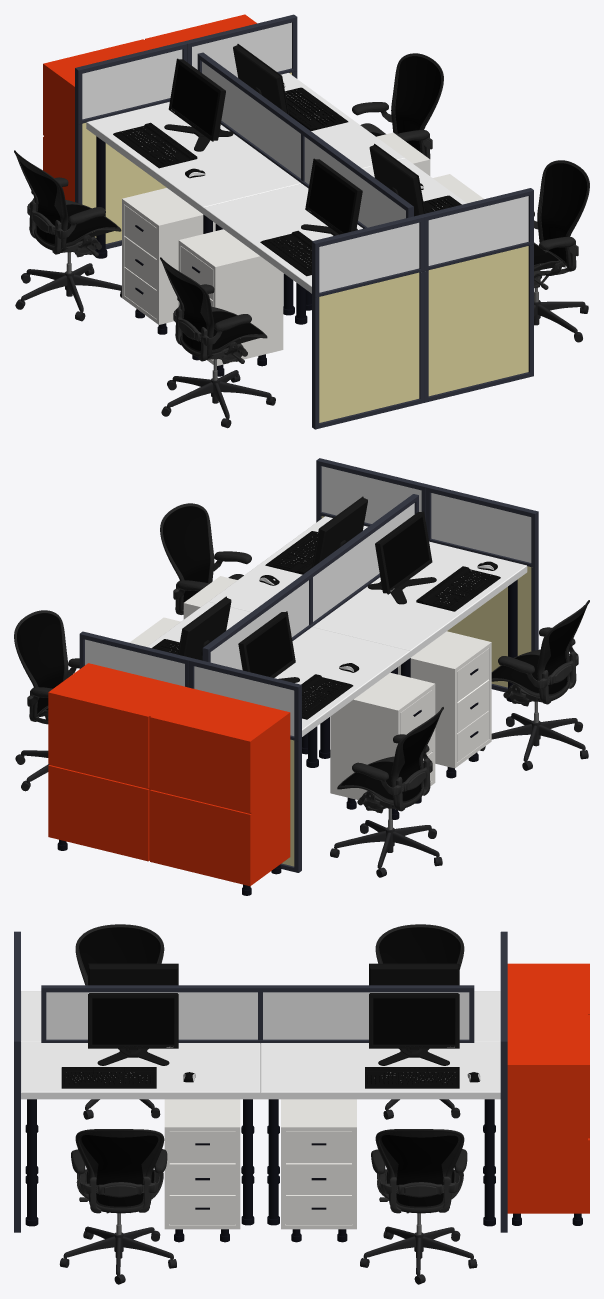
3 renders of one model, top to bottom at view 1: azimuth 30°, elevation 25°; view 2: azimuth 150°, elevation 25°; view 3: azimuth 270°, elevation 25°, orthographic. The views are drawn at different scales.
Visible parts, largest first — view 1: Box343, Box339, Rectangle1294, Rectangle1302, Rectangle1298, Box346, Box345, Rectangle1293, Box337, Box342, Box352, Box354 (+41 smaller); view 2: Box346, Rectangle1293, Rectangle1302, Rectangle1298, Box345, Rectangle1294, Box337, Arch35_024_13, Box339, Box342, HPellBk15, HPellBk14 (+37 smaller); view 3: Box346, Box345, Rectangle1308, Rectangle1303, Rectangle1307, Rectangle1312, Arch35_024_12, Arch35_024_11, Box344, HPellBk15, HPellBk14, HPellBk12 (+26 smaller).
Boxes of the visible parts, x1,y1,x2,y2 form: Box343: [428, 246, 528, 396]; Box339: [319, 272, 419, 422]; Rectangle1294: [86, 102, 300, 213]; Rectangle1302: [178, 229, 283, 365]; Rectangle1298: [122, 188, 215, 324]; Box346: [43, 14, 256, 201]; Box345: [202, 61, 405, 227]; Rectangle1293: [203, 183, 362, 293]; Box337: [319, 222, 419, 292]; Box342: [428, 196, 528, 265]; Box352: [82, 49, 182, 119]; Box354: [82, 123, 166, 243]; Box346: [48, 663, 290, 886]; Rectangle1293: [312, 541, 527, 657]; Rectangle1302: [398, 631, 491, 768]; Rectangle1298: [330, 672, 435, 809]; Box345: [210, 503, 414, 670]; Rectangle1294: [274, 627, 410, 736]; Box337: [431, 493, 531, 562]; Arch35_024_13: [367, 511, 436, 604]; Box339: [447, 566, 531, 687]; Box342: [321, 466, 421, 523]; HPellBk15: [163, 506, 210, 607]; HPellBk14: [17, 613, 64, 714]; Box346: [507, 963, 589, 1213]; Box345: [46, 992, 469, 1039]; Rectangle1308: [260, 1041, 500, 1099]; Rectangle1303: [21, 1041, 260, 1099]; Rectangle1307: [164, 1099, 240, 1229]; Rectangle1312: [281, 1099, 356, 1229]; Arch35_024_12: [88, 993, 178, 1065]; Arch35_024_11: [369, 993, 459, 1065]; Box344: [41, 985, 474, 1043]; HPellBk15: [81, 1135, 158, 1206]; HPellBk14: [381, 1135, 458, 1206]; HPellBk12: [79, 927, 160, 975].
Size of the model in its own units: 2534 by 1096 by 2879.
